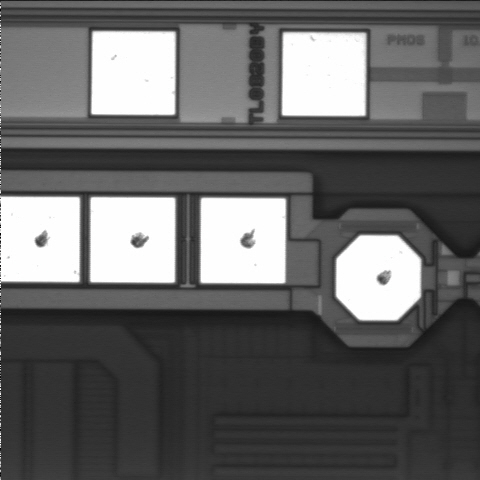pad: (90, 197, 175, 283), (201, 198, 286, 283), (336, 235, 421, 320), (91, 31, 175, 115), (282, 33, 366, 116)
